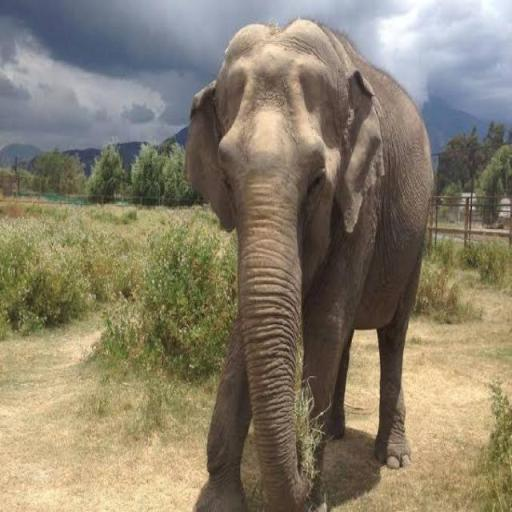Elephant: (183, 16, 435, 510)
